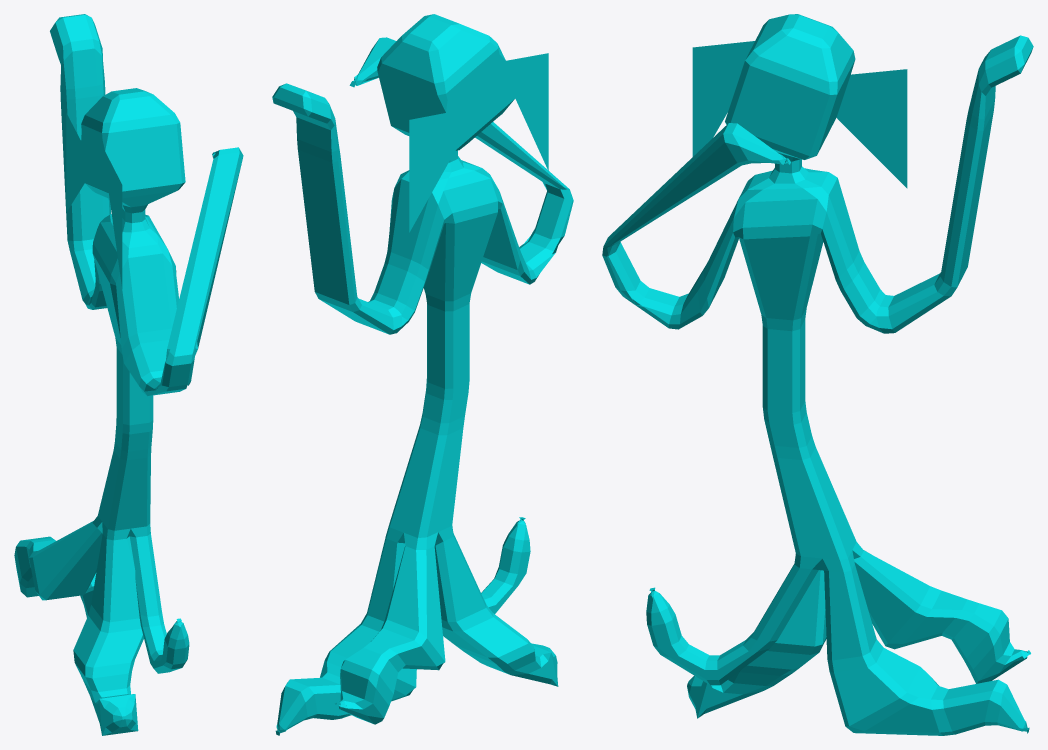
The model's file is Alec.fbx.
3 views of the same model, side by side, from view 1: azimuth 30°, elevation 25°; view 2: azimuth 150°, elevation 25°; view 3: azimuth 270°, elevation 25° (orthographic). The views are drawn at different scales.
Parts seen in each view (by area): view 1: Alec; view 2: Alec; view 3: Alec.
Part boxes in pixels (x1,y1,x2,y2): Alec: (14, 14, 243, 735); Alec: (272, 14, 573, 735); Alec: (602, 14, 1033, 735).
Bounding box in the file's own units: 292 × 1107 × 602.
